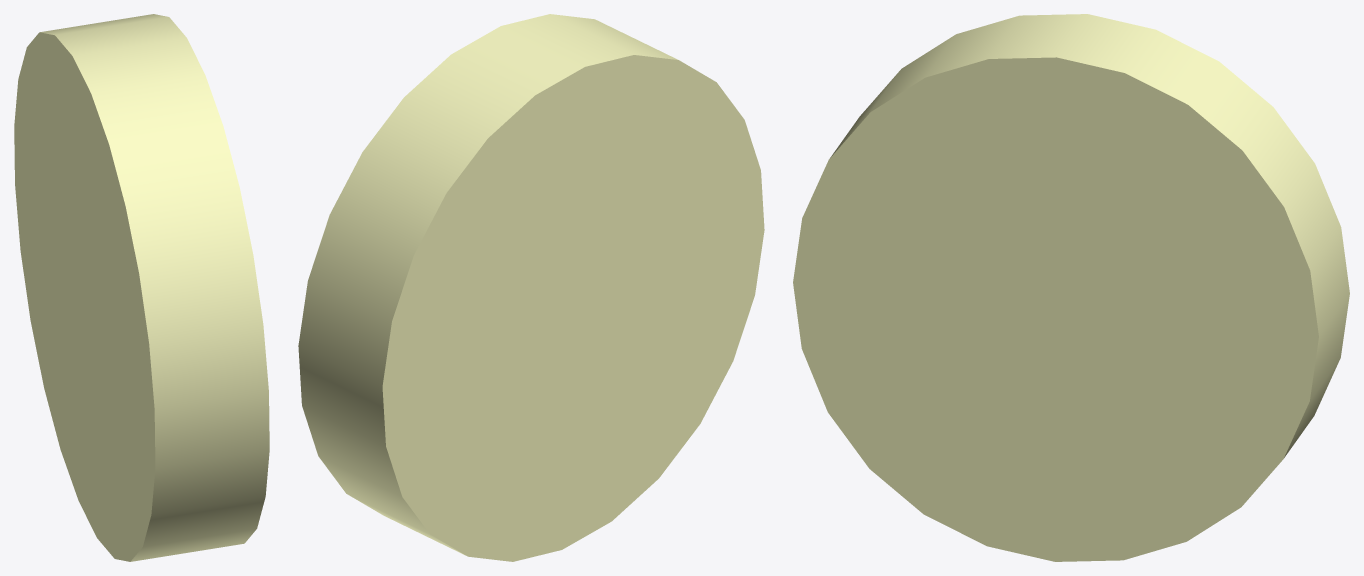
The model's file is morse code hologram puzzle hologram light to show morse code.fbx.
3 renders of one model, left to right at view 1: azimuth 30°, elevation 25°; view 2: azimuth 150°, elevation 25°; view 3: azimuth 270°, elevation 25°, orthographic.
Visible parts, largest first — view 1: feaa45bb-dbbc-4163-819b-13e882fc6ea5; view 2: feaa45bb-dbbc-4163-819b-13e882fc6ea5; view 3: feaa45bb-dbbc-4163-819b-13e882fc6ea5.
Boxes of the visible parts, bbox=[...] form: feaa45bb-dbbc-4163-819b-13e882fc6ea5: bbox=[14, 14, 269, 561]; feaa45bb-dbbc-4163-819b-13e882fc6ea5: bbox=[298, 14, 764, 561]; feaa45bb-dbbc-4163-819b-13e882fc6ea5: bbox=[793, 14, 1349, 561].
Size of the model in its own units: 9729 by 20685 by 20957.
